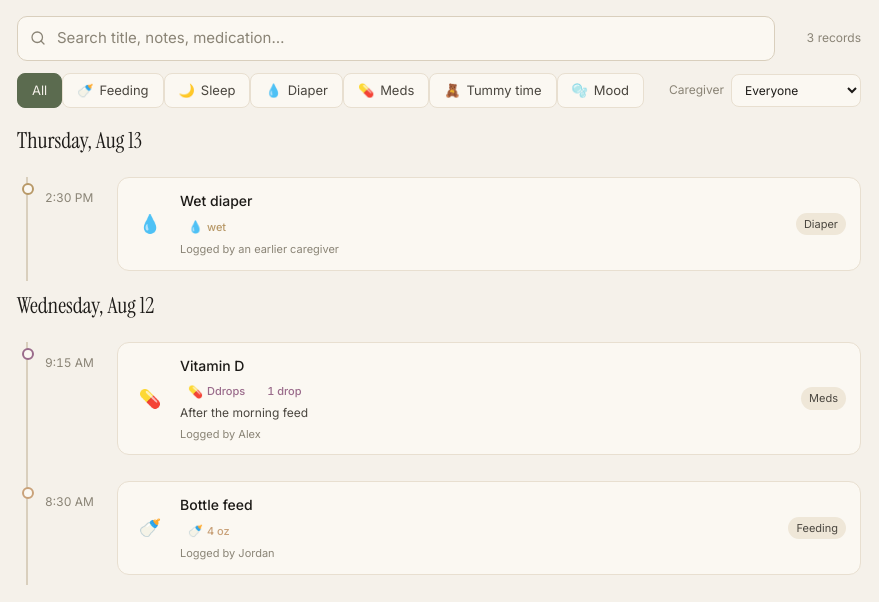
TodayScreen timeline search › shows attribution and filters records by caregiver
expect the text "Logged by Alex" is shown: met, box x1=180 y1=426 x2=261 y2=440
expect the text "Logged by Jordan" is shown: met, box x1=180 y1=546 x2=275 y2=560
Select "Alex" in the dropdown named "Filter by caregiver" at (796, 90), box x1=731 y1=74 x2=861 y2=107
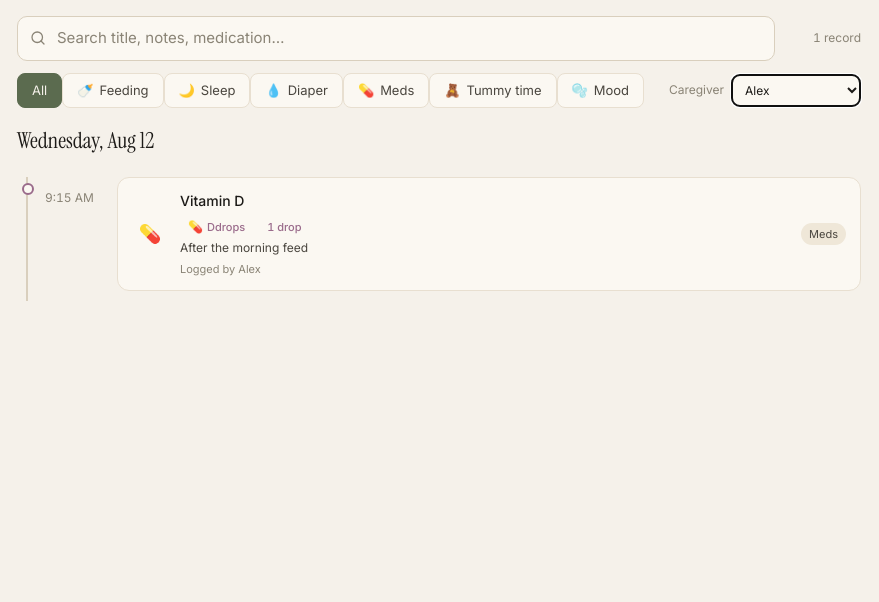
expect the button "Bottle feed" is gone: met
expect the button "Wet diaper" is gone: met
expect the message reads "1 record": met, box x1=813 y1=30 x2=861 y2=45
